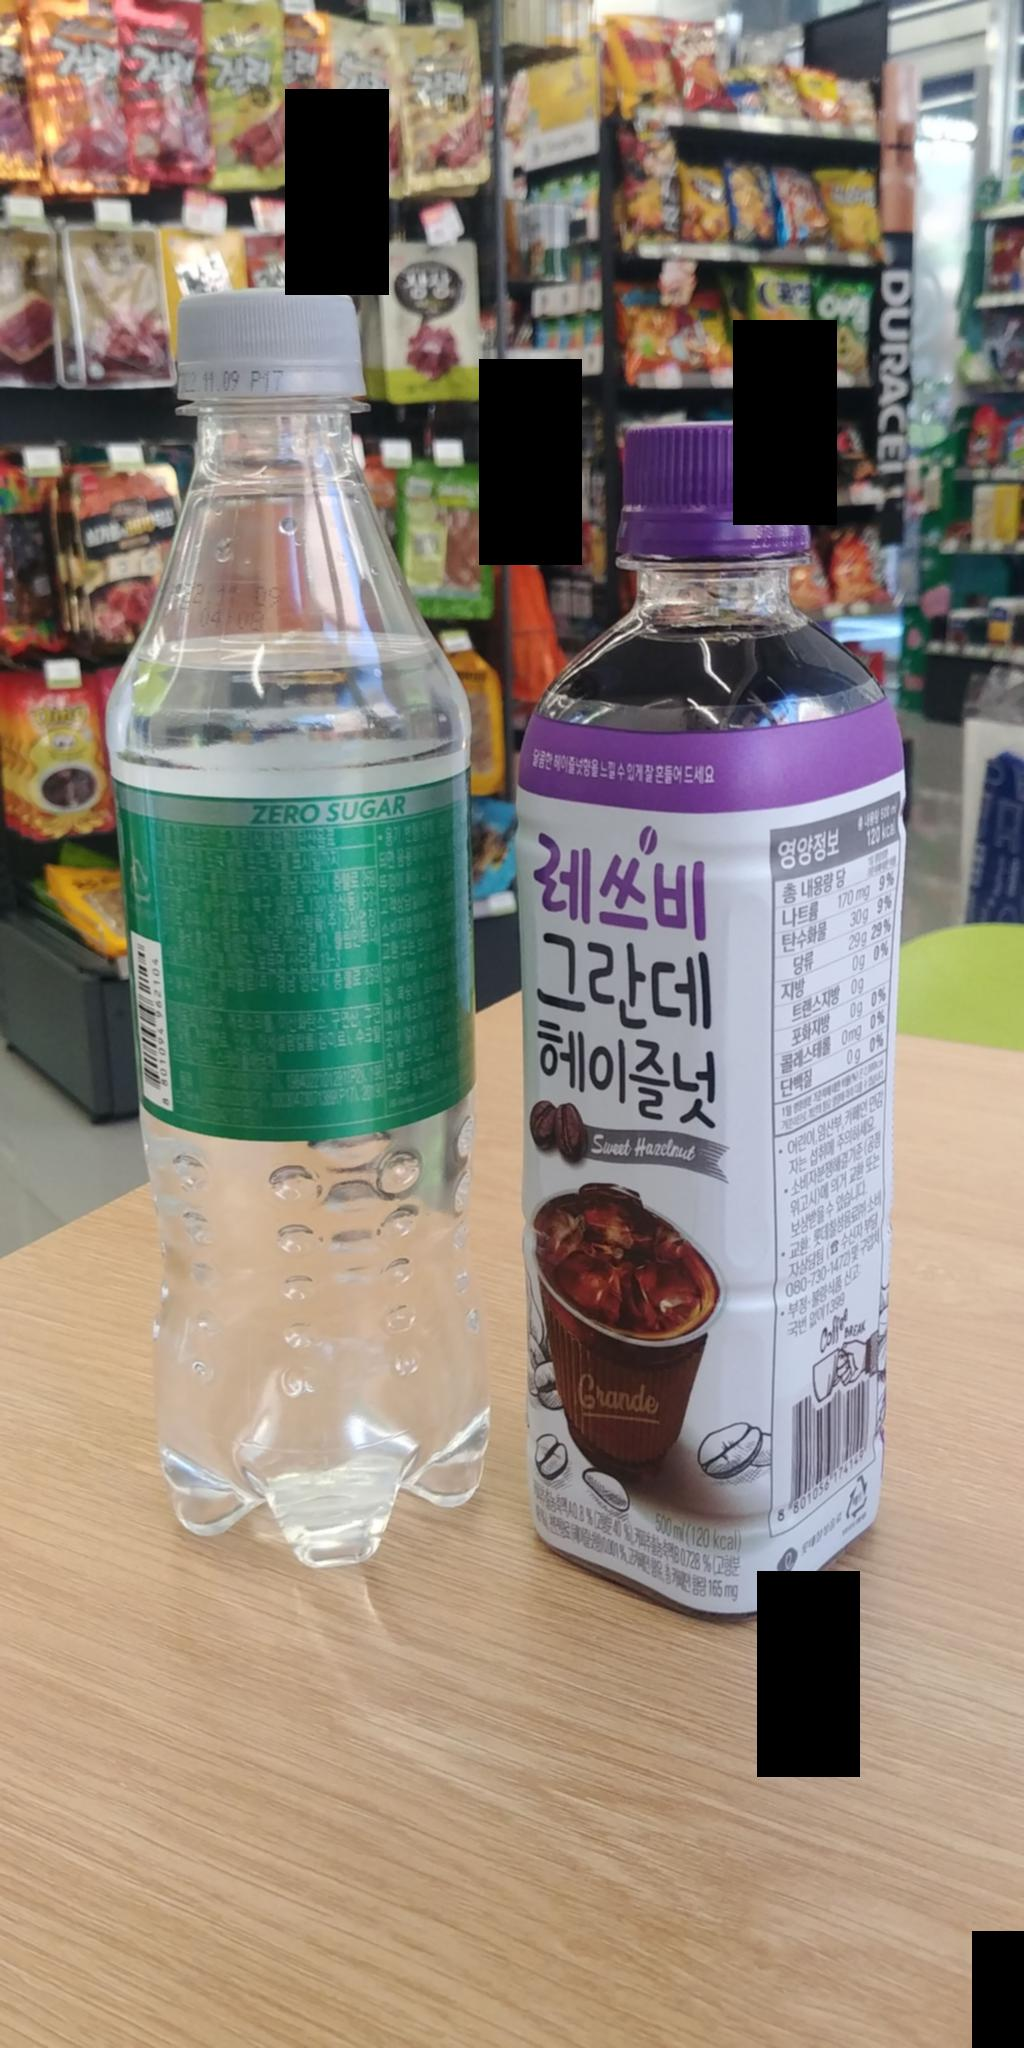letsbe_grande_hazelnut: (508, 393, 939, 1644)
sprite_zero: (95, 251, 537, 1613)
